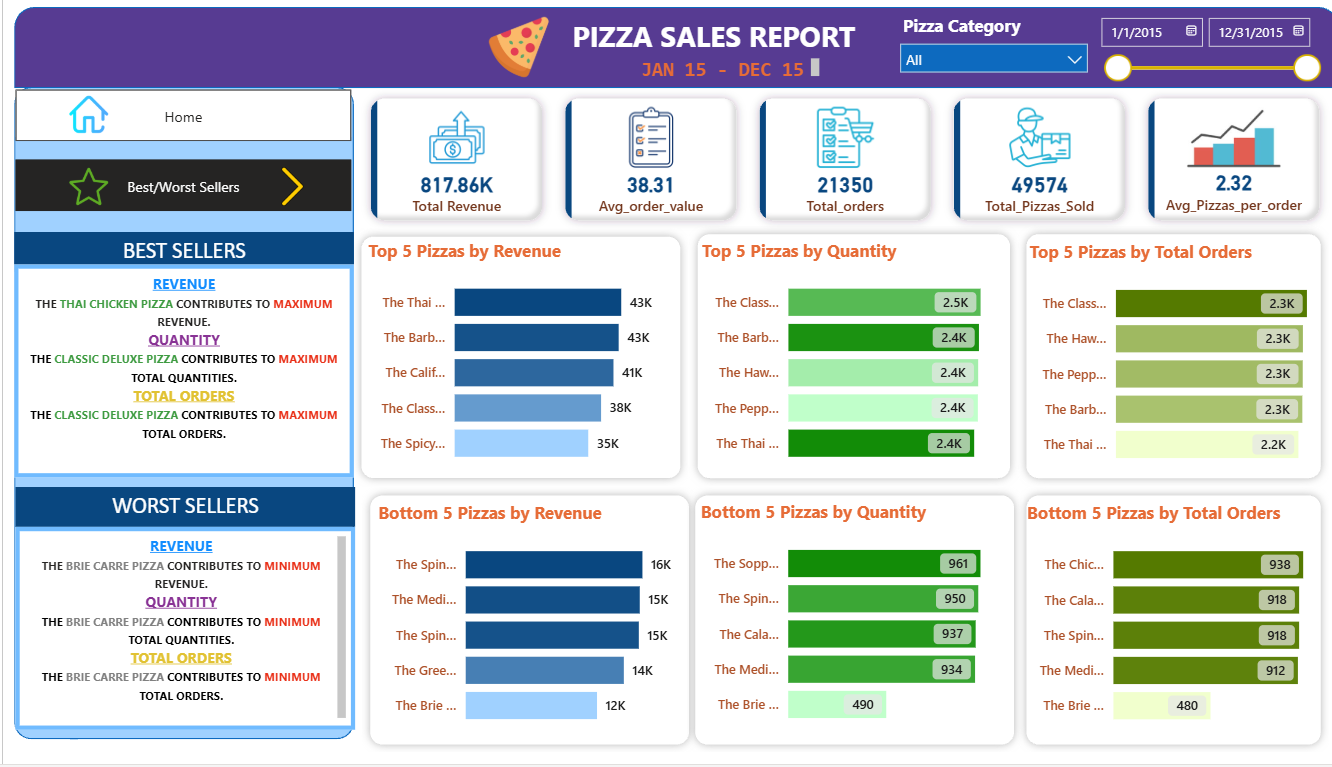

The page's visual inventory and layout, read from the dashboard file:
{"tool":"powerbi","page":{"name":"Best/Worst Sellers","canvas":[1280,720],"ordinal":1},"visuals":[{"type":"cardVisual","fields":{"Data":["pizza_sales.Total Revenue","pizza_sales.Avg_order_value","pizza_sales.Total_orders","pizza_sales.Total_Pizzas_Sold","pizza_sales.Avg_Pizzas_per_order"]},"box":[332.1,85.7,933.3,147.6],"z":0},{"type":"shape","box":[11,13.7,1254.2,76.8],"z":1000},{"type":"textbox","box":[499.5,19.2,347.2,52.1],"z":2000},{"type":"textbox","box":[592.8,57.6,185.2,28.8],"z":3000},{"type":"image","box":[433.6,17.8,111.2,68.6],"z":4000},{"type":"shape","box":[331.4,223.8,317.9,244.6],"z":5000},{"type":"shape","box":[11,90.5,321.6,617.5],"z":6000},{"type":"textbox","box":[11,227.4,321.6,37.9],"z":7000},{"type":"textbox","box":[11,258,321.6,201.8],"z":8000},{"type":"textbox","box":[12.2,468.3,321.6,37.9],"z":9000},{"type":"textbox","box":[12.2,506.2,321.6,192],"z":10000},{"type":"slicer","fields":{"Values":["pizza_sales.pizza_category"]},"box":[838.9,15.9,198.1,69.7],"z":11000},{"type":"slicer","fields":{"Values":["pizza_sales.order_date"]},"box":[1027.2,14.7,228.7,77],"z":12000},{"type":"shape","box":[649.3,221.3,311.8,247],"z":13000},{"type":"shape","box":[961.1,221.3,294.7,247],"z":14000},{"type":"shape","box":[339.9,468.3,317.9,251.9],"z":15000},{"type":"shape","box":[646.9,468.3,317.9,251.9],"z":16000},{"type":"shape","box":[961.1,468.3,294.7,251.9],"z":17000},{"type":"barChart","title":"Top 5 Pizzas by Revenue","fields":{"Category":["pizza_sales.pizza_name"],"Y":["pizza_sales.Total Revenue"]},"box":[340.3,233.3,297.8,226.4],"z":18000},{"type":"barChart","title":"Bottom 5 Pizzas by Revenue","fields":{"Category":["pizza_sales.pizza_name"],"Y":["pizza_sales.Total Revenue"]},"box":[350.9,481.8,298.4,226.2],"z":19000},{"type":"barChart","title":"Top 5 Pizzas by Quantity","fields":{"Category":["pizza_sales.pizza_name"],"Y":["pizza_sales.Total_Pizzas_Sold"]},"box":[657.3,233.3,297.8,226.4],"z":20000},{"type":"barChart","title":"Bottom 5 Pizzas by Quantity","fields":{"Category":["pizza_sales.pizza_name"],"Y":["pizza_sales.Total_Pizzas_Sold"]},"box":[655.9,480.3,299.1,226.4],"z":21000},{"type":"barChart","title":"Top 5 Pizzas by Total Orders","fields":{"Category":["pizza_sales.pizza_name"],"Y":["pizza_sales.Total_orders"]},"box":[967.4,234.7,297.8,226.4],"z":22000},{"type":"barChart","title":"Bottom 5 Pizzas by Total Orders","fields":{"Category":["pizza_sales.pizza_name"],"Y":["pizza_sales.Total_orders"]},"box":[964.7,481.6,297.8,226.4],"z":23000},{"type":"pageNavigator","box":[12.3,91.9,318.4,49.4],"z":24000},{"type":"pageNavigator","box":[12.3,159.2,318.4,49.4],"z":25000},{"type":"image","box":[251.1,160.6,46.7,46.7],"z":26000},{"type":"image","box":[57.6,90.6,46.7,49.4],"z":26001},{"type":"image","box":[57.6,160.6,46.7,46.7],"z":26002}]}

Visuals, with their boxes in screenshot pixels (x1, y1, x2, y2), scaled from the page's 1280x720 canvas onto the 1332x767 screenshot:
cardVisual - pizza_sales.Total Revenue x pizza_sales.Avg_order_value: 346:91:1317:249
shape: 11:15:1317:96
textbox: 520:20:881:76
textbox: 617:61:810:92
image: 451:19:567:92
shape: 345:238:676:499
shape: 11:96:346:754
textbox: 11:242:346:283
textbox: 11:275:346:490
textbox: 13:499:347:539
textbox: 13:539:347:744
slicer - pizza_sales.pizza_category: 873:17:1079:91
slicer - pizza_sales.order_date: 1069:16:1307:98
shape: 676:236:1000:499
shape: 1000:236:1307:499
shape: 354:499:685:766
shape: 673:499:1004:766
shape: 1000:499:1307:766
"Top 5 Pizzas by Revenue" barChart: 354:249:664:490
"Bottom 5 Pizzas by Revenue" barChart: 365:513:676:754
"Top 5 Pizzas by Quantity" barChart: 684:249:994:490
"Bottom 5 Pizzas by Quantity" barChart: 683:512:994:753
"Top 5 Pizzas by Total Orders" barChart: 1007:250:1317:491
"Bottom 5 Pizzas by Total Orders" barChart: 1004:513:1314:754
pageNavigator: 13:98:344:151
pageNavigator: 13:170:344:222
image: 261:171:310:221
image: 60:97:109:149
image: 60:171:109:221
